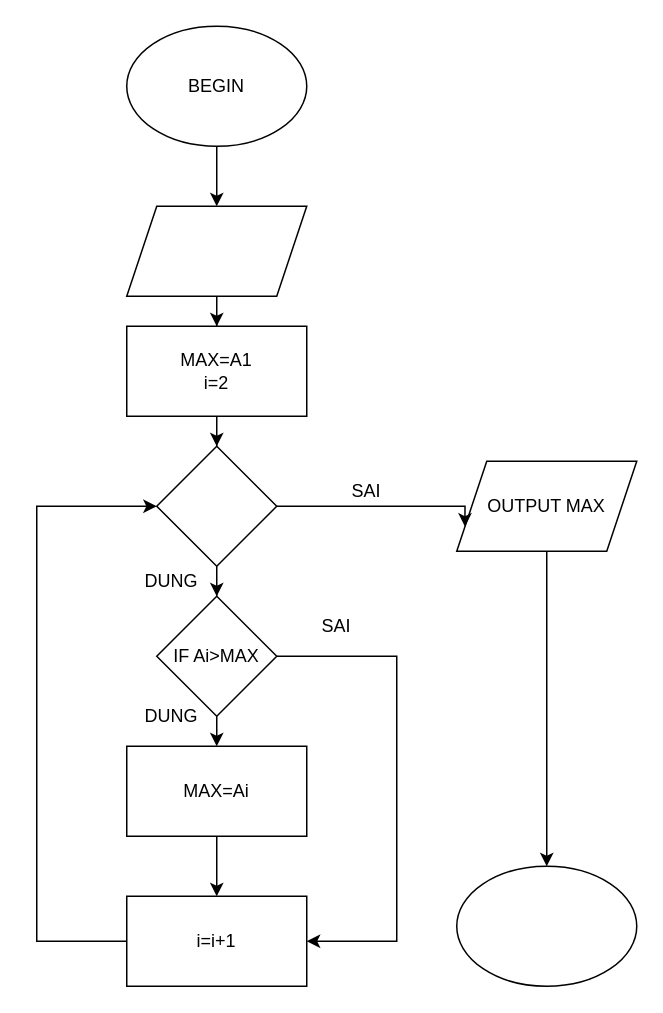
Image size: 663x1013. Some labels were removed from this diagram. The shapes that lost their labels are listed below. From the top down, each one's centre as x and y in pixels, then its label:
At pixel 216 250: "INPUT n,A1,A2,A3,...An".
At pixel 216 505: "IF I<=N".
At pixel 546 925: "END".
